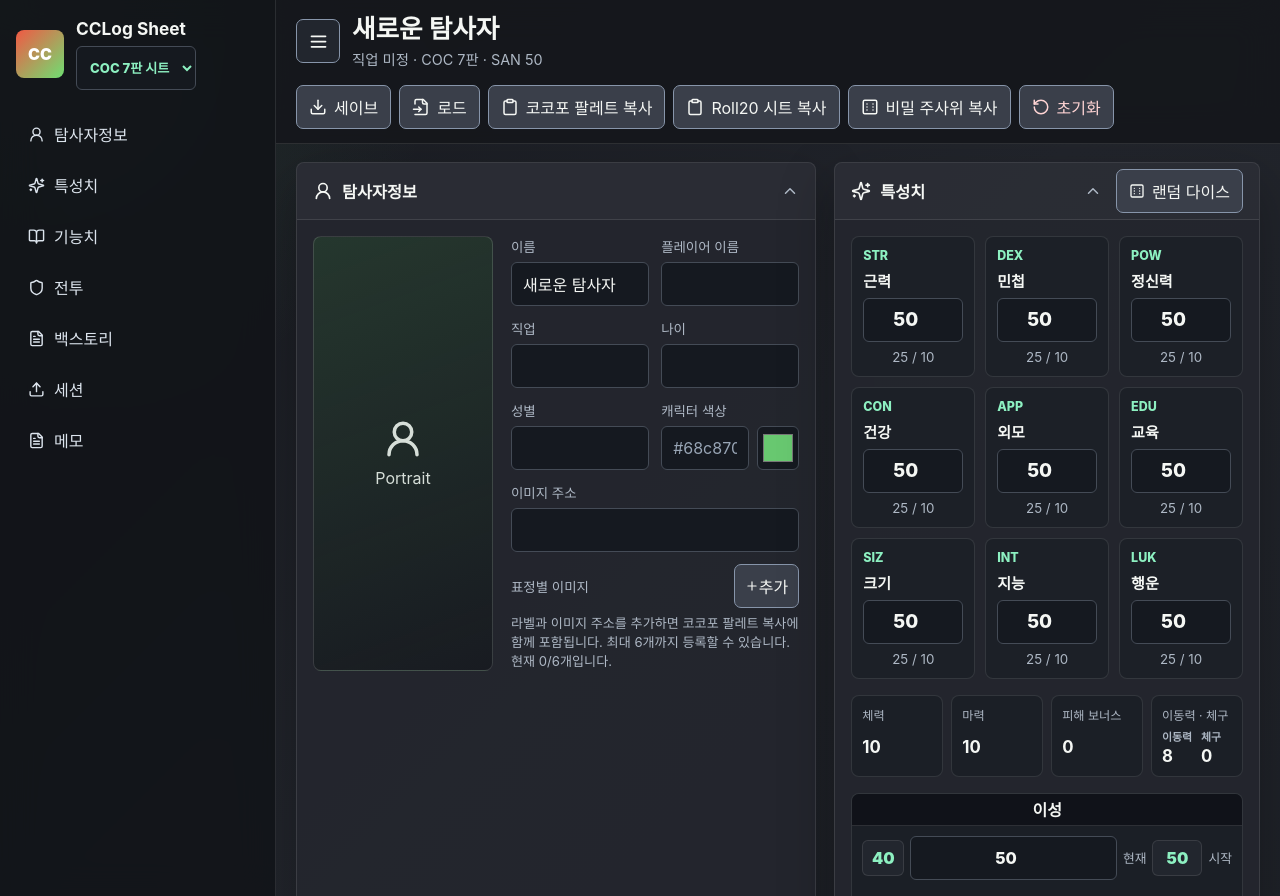
App accessibility smoke › opens and focuses a requested sheet section while keeping the URL hash in sync
Click the link "메모".
click(56, 441)  # box [28,431,84,451]
(page scrolled)
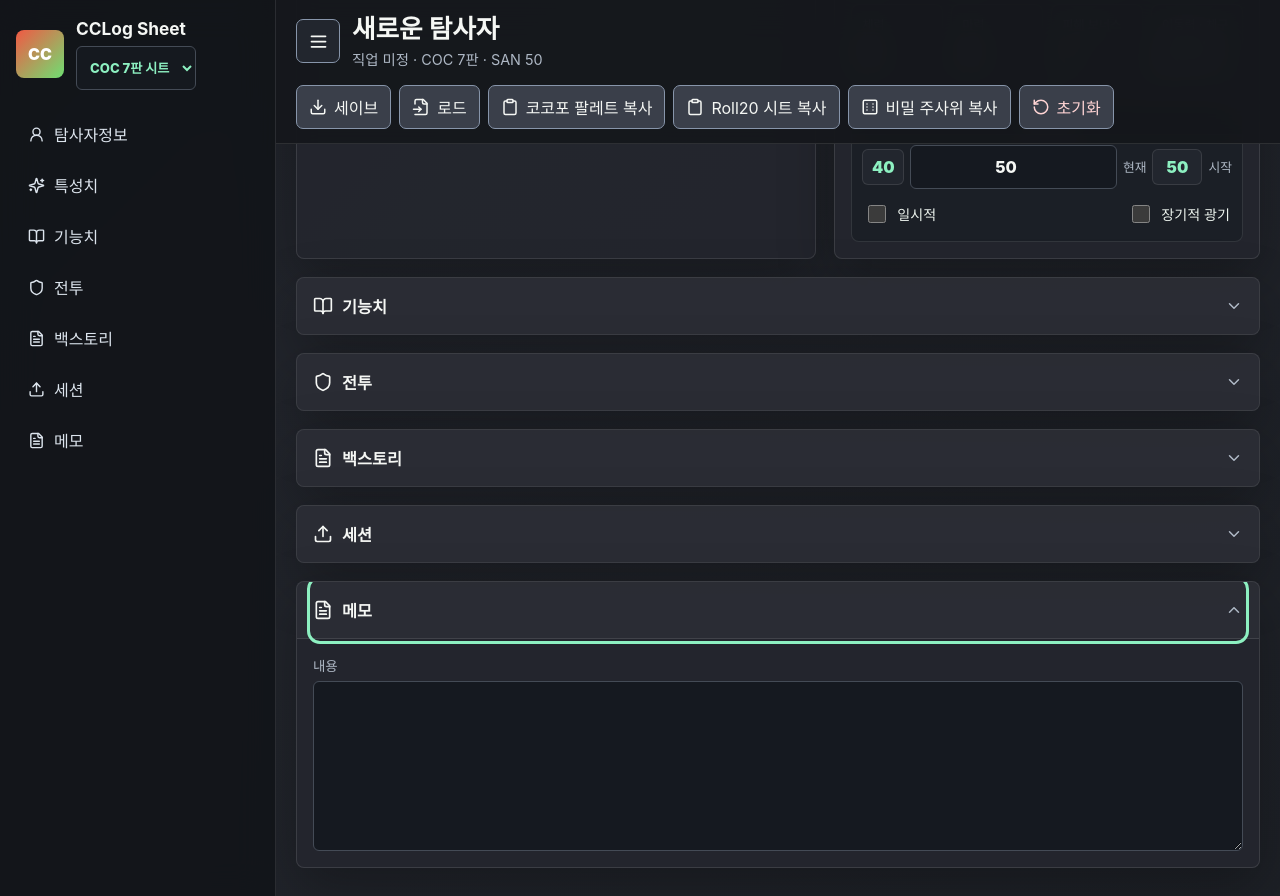
Now the button "메모" is expanded, box [313,582,1243,638]
